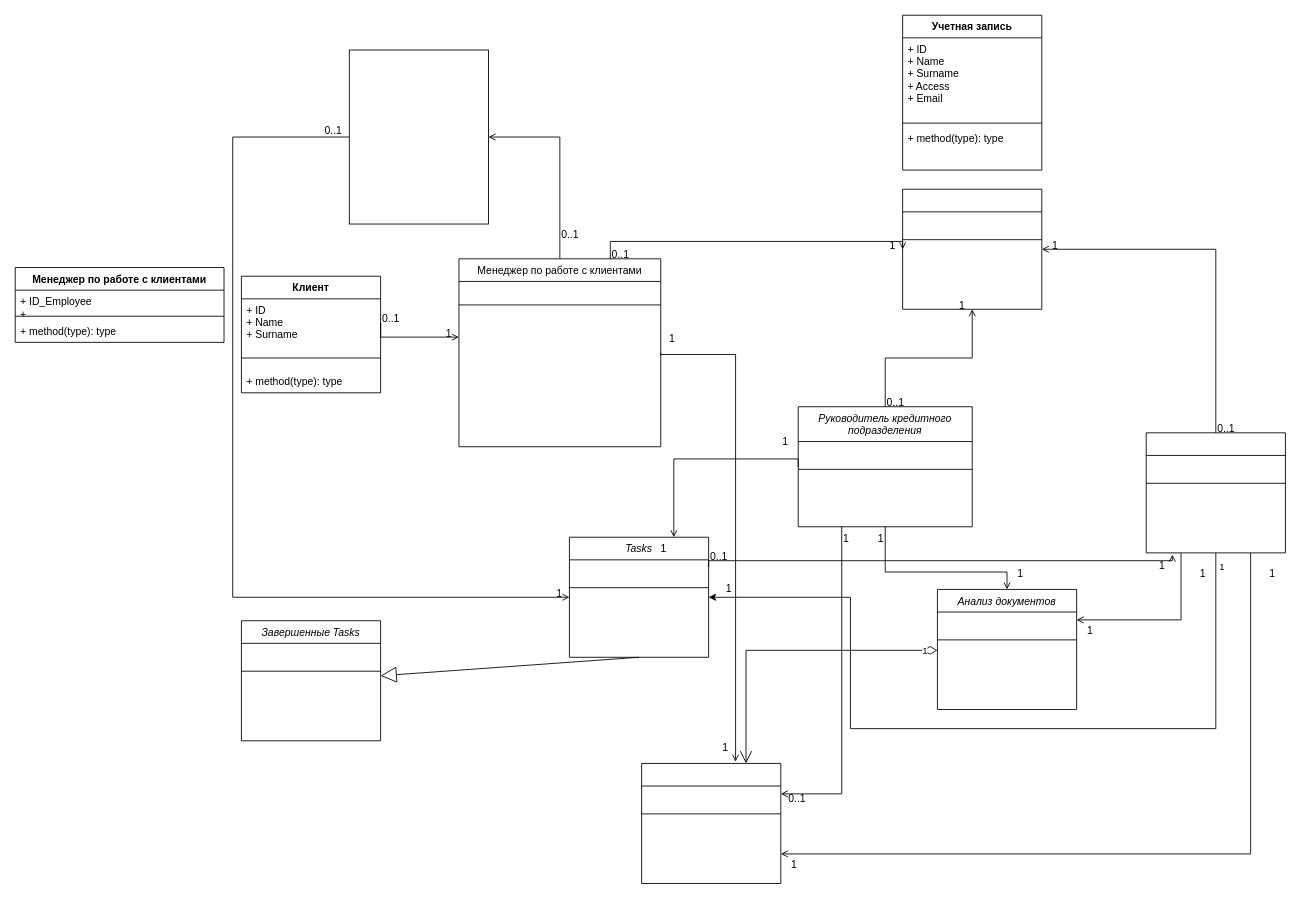
This 1301x899 diagram has some shape labels left out. The centre of each missing label's shape, as x and y in pixels:
"Документы" belongs at pixel 711 823.
"Заявка + ID (int) + Name + Type + Date + ID_Employee + method(): Type" belongs at pixel 418 136.
"Кредитный аналитик" belongs at pixel 1215 492.
"Учетные записи" belongs at pixel 972 248.
